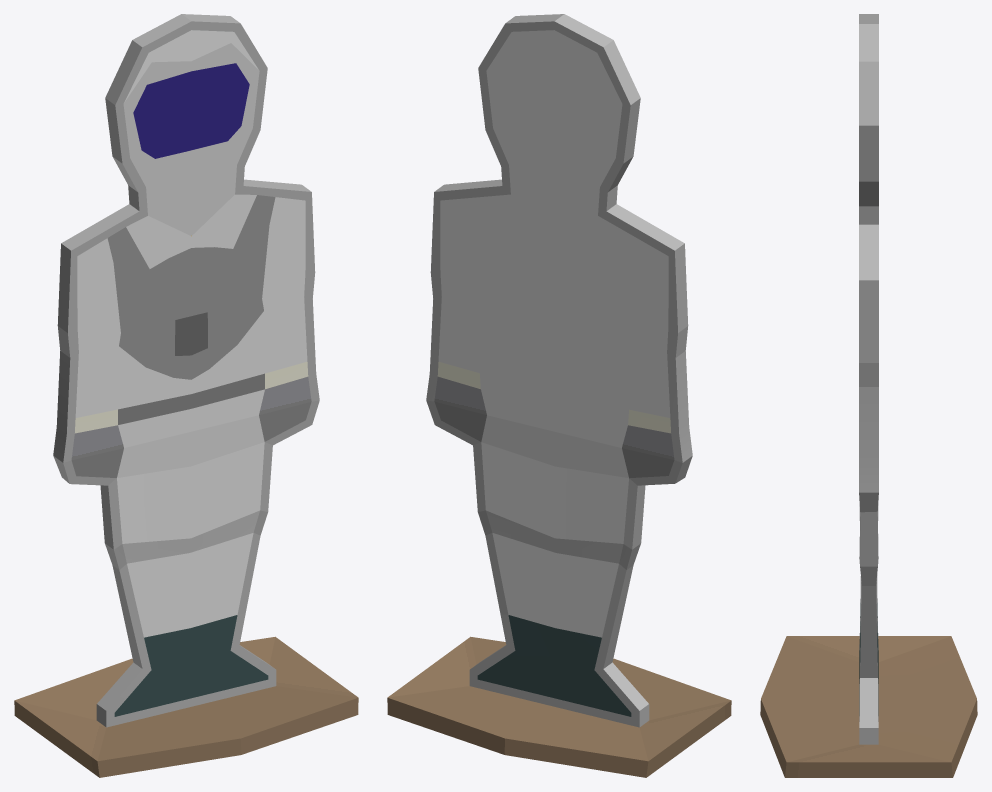
The model's file is Astronaut_Dummy.fbx.
The picture shows the model from 3 angles, left to right: view 1: azimuth 30°, elevation 25°; view 2: azimuth 150°, elevation 25°; view 3: azimuth 270°, elevation 25°; orthographic projection.
Parts seen in each view (by area): view 1: Astronaut; view 2: Astronaut; view 3: Astronaut.
Part boxes in pixels (<box>): Astronaut: <box>14,14,358,777</box>; Astronaut: <box>387,14,731,777</box>; Astronaut: <box>760,14,977,777</box>.
Size of the model in its own units: 116 by 297 by 83.98.
